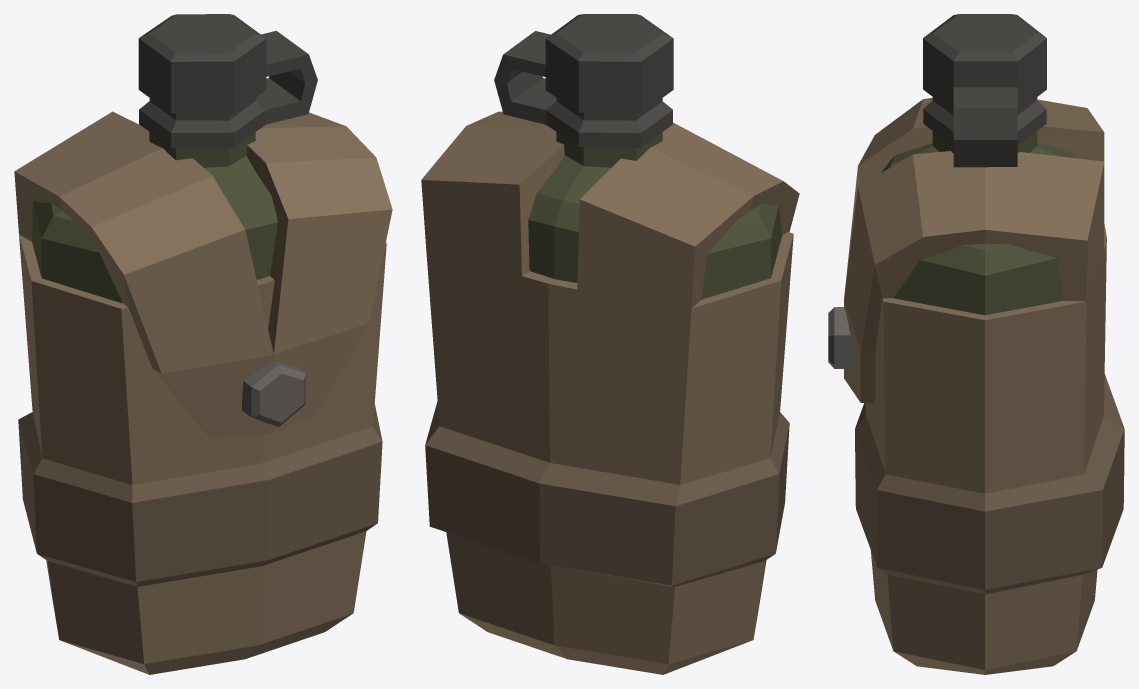
File: Pouch_Canteen_01_SM.FBX
The picture shows the model from 3 angles, left to right: view 1: azimuth 30°, elevation 25°; view 2: azimuth 150°, elevation 25°; view 3: azimuth 270°, elevation 25°; orthographic projection.
Parts seen in each view (by area): view 1: Pouch_Canteen_01_SM; view 2: Pouch_Canteen_01_SM; view 3: Pouch_Canteen_01_SM.
Part boxes in pixels (bbox=[...]): Pouch_Canteen_01_SM: bbox=[14, 14, 392, 674]; Pouch_Canteen_01_SM: bbox=[421, 14, 799, 674]; Pouch_Canteen_01_SM: bbox=[828, 14, 1124, 674].
Size of what is drawn, in the model's own units: 9.37 by 7.07 by 15.54.
